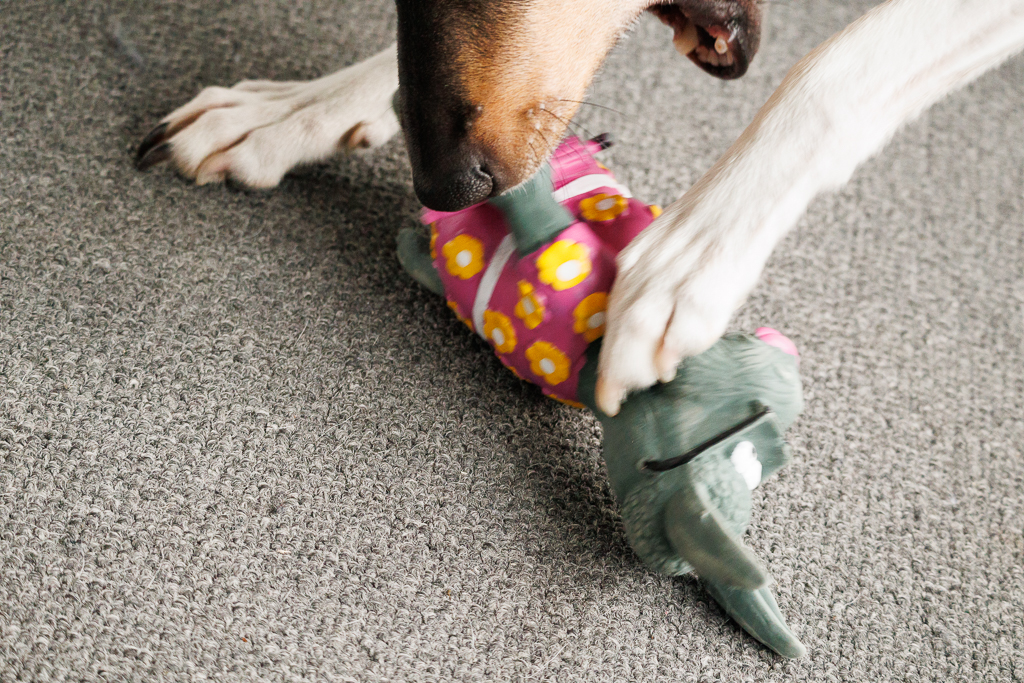Dog: (119, 0, 1024, 426)
Humanoid: (370, 88, 824, 670)
